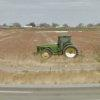Tractor: (32, 28, 87, 64)
